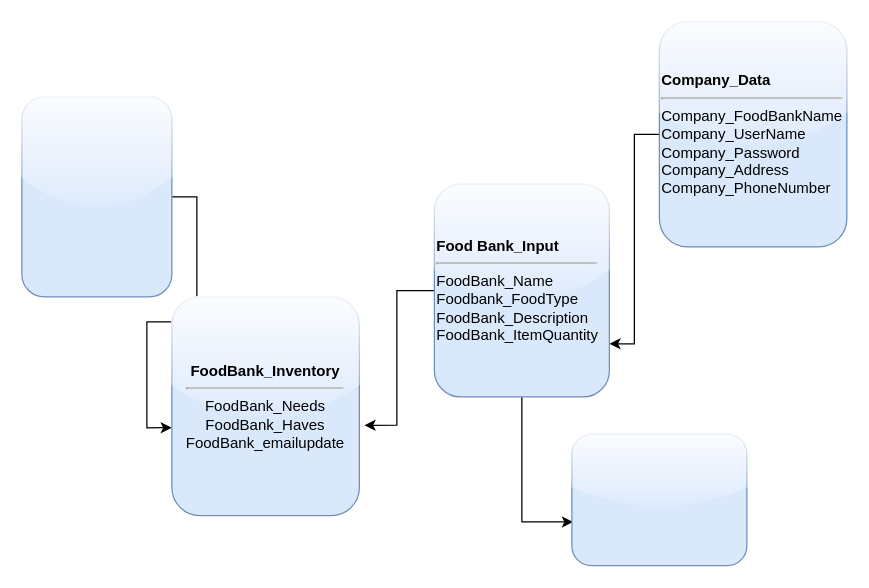
Some shapes in this 869 by 588 pixel diagram are drawn without their labels. Each missing label, with the centre of its shape:
"Food Bank_Removal FoodBank_Name FoodBank_Description FoodBank_RemovalQt" goes at point 659,499.
"User_Data User_Location User_Street Address User_city User_Zipcode" goes at point 96,196.
